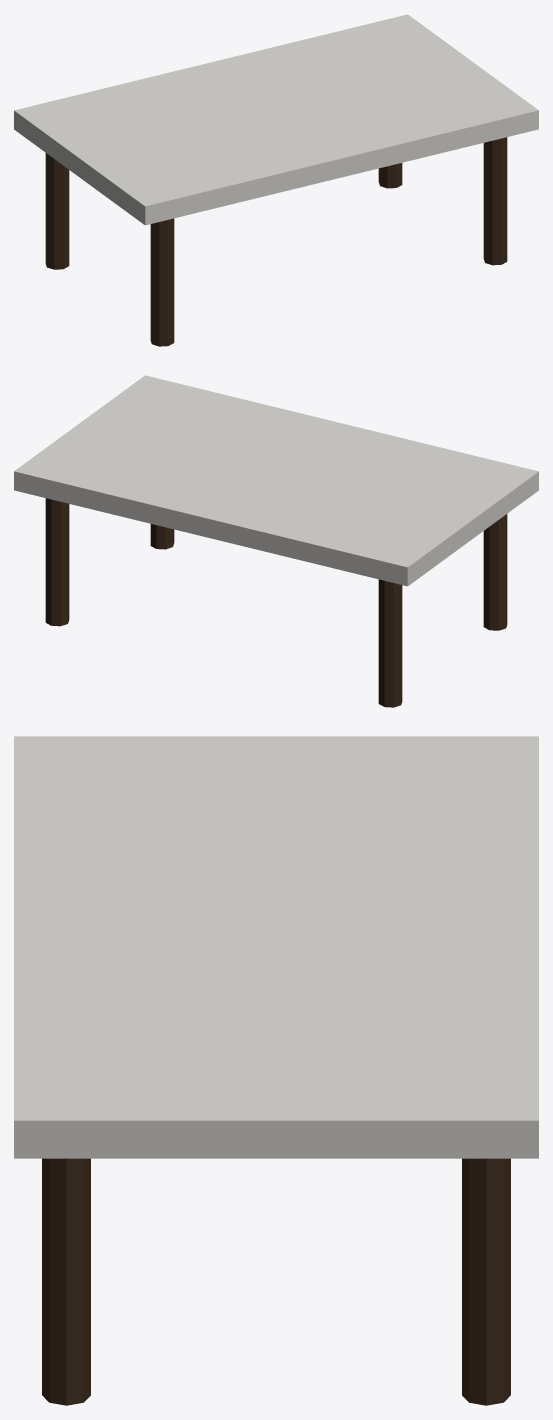
Rendered from SM_Mob_Sehpa.fbx.
The picture shows the model from 3 angles, top to bottom: view 1: azimuth 30°, elevation 25°; view 2: azimuth 150°, elevation 25°; view 3: azimuth 270°, elevation 25°; orthographic projection. The views are drawn at different scales.
Visible parts, largest first — view 1: Mob_Sehpa; view 2: Mob_Sehpa; view 3: Mob_Sehpa.
Boxes of the visible parts, box(x1,y1,x2,y2) form: Mob_Sehpa: box(14, 14, 538, 346); Mob_Sehpa: box(14, 375, 538, 707); Mob_Sehpa: box(14, 736, 538, 1405).
Bounding box in the file's own units: 130 × 48 × 75.
